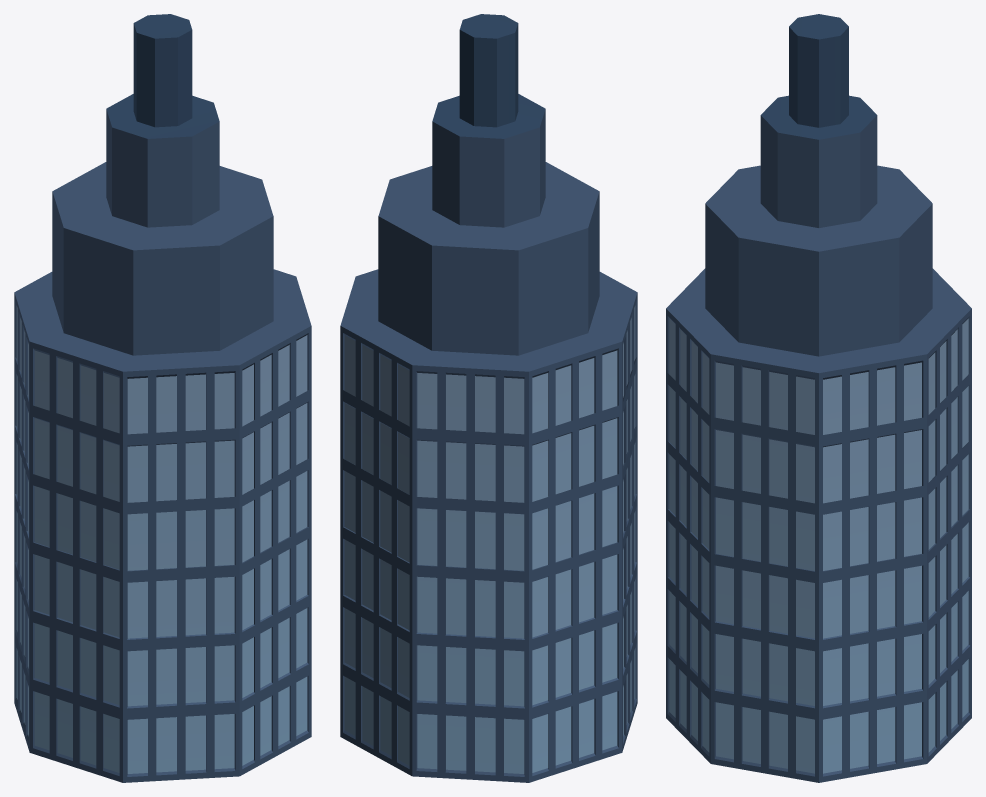
3 views of the same model, side by side, from view 1: azimuth 30°, elevation 25°; view 2: azimuth 150°, elevation 25°; view 3: azimuth 270°, elevation 25° (orthographic).
Parts seen in each view (by area): view 1: bina 4; view 2: bina 4; view 3: bina 4.
Part boxes in pixels (box(x1,y1,x2,y2)): bina 4: box(14, 14, 311, 782); bina 4: box(340, 14, 637, 782); bina 4: box(666, 14, 971, 782).
Bounding box in the file's own units: 407 × 1013 × 406.
